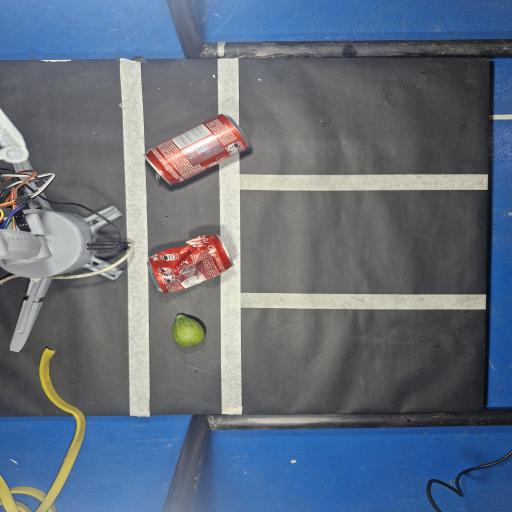higo: (173, 314, 205, 347)
lata: (145, 115, 248, 184)
lata_defectuoso: (148, 235, 232, 293)
